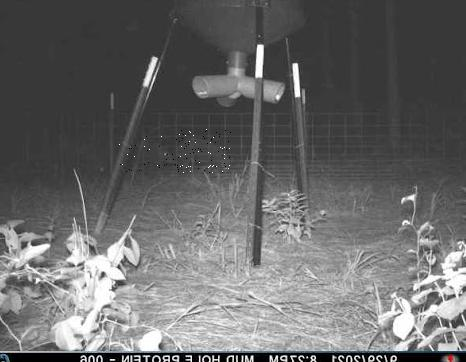Hog: (175, 129, 231, 174), (119, 134, 177, 172)
